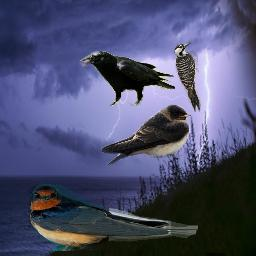Crow: (79, 51, 175, 106)
Swallow: (25, 181, 198, 251), (101, 104, 192, 166)
Woodpecker: (174, 42, 201, 112)
